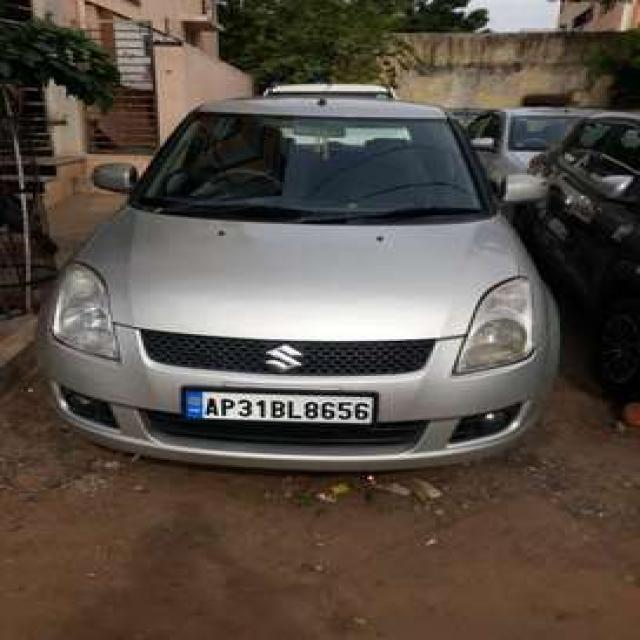Plate: (185, 389, 371, 419)
